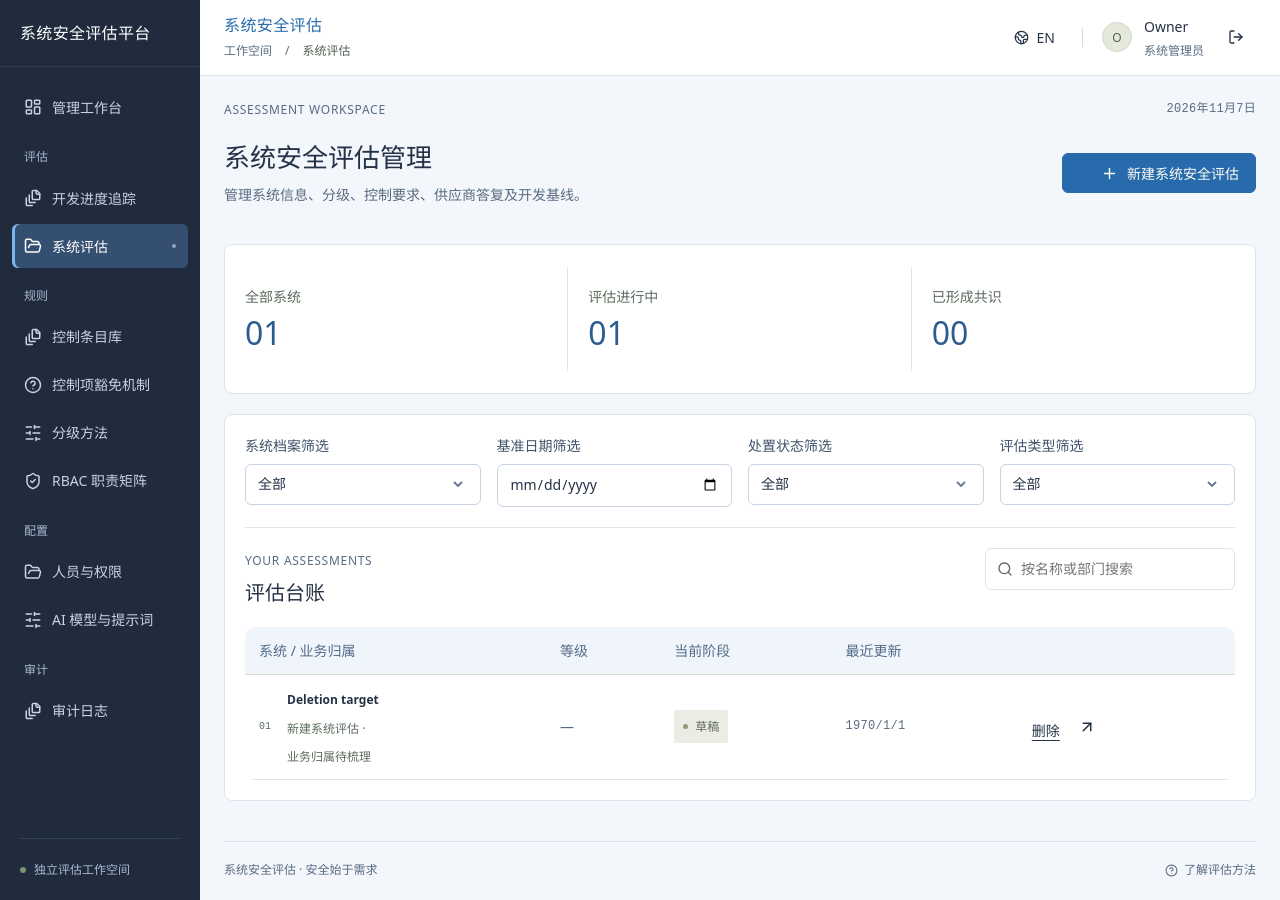
Test: restricts assessment deletion to admin=true and confirms before sending
Expected: the text "Deletion target" is shown, [287,691,379,708]
Click the button with aria-label "删除评估 Deletion target": click(1046, 730) [1025,714,1067,746]
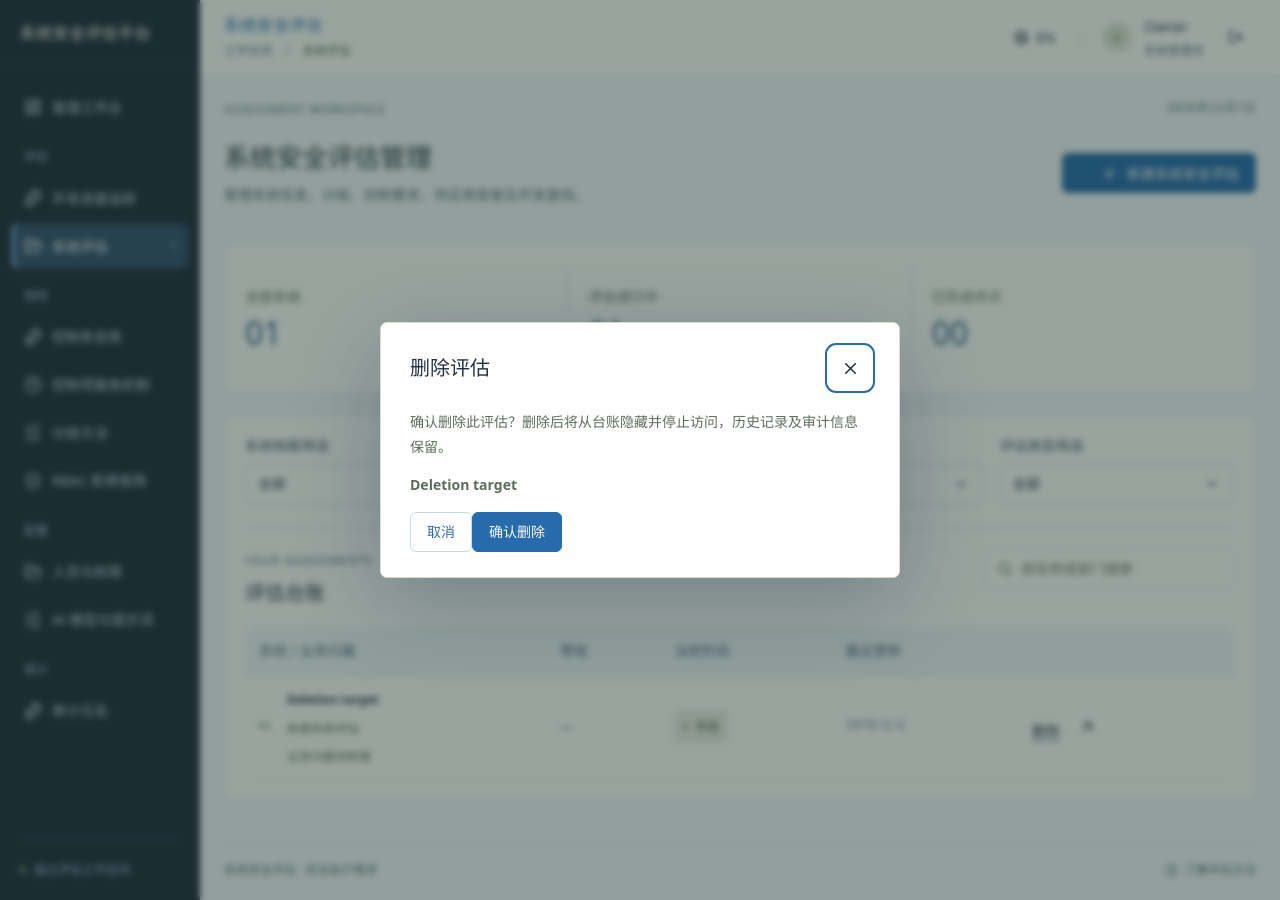
Click the button "取消": click(441, 532) [410,512,472,552]
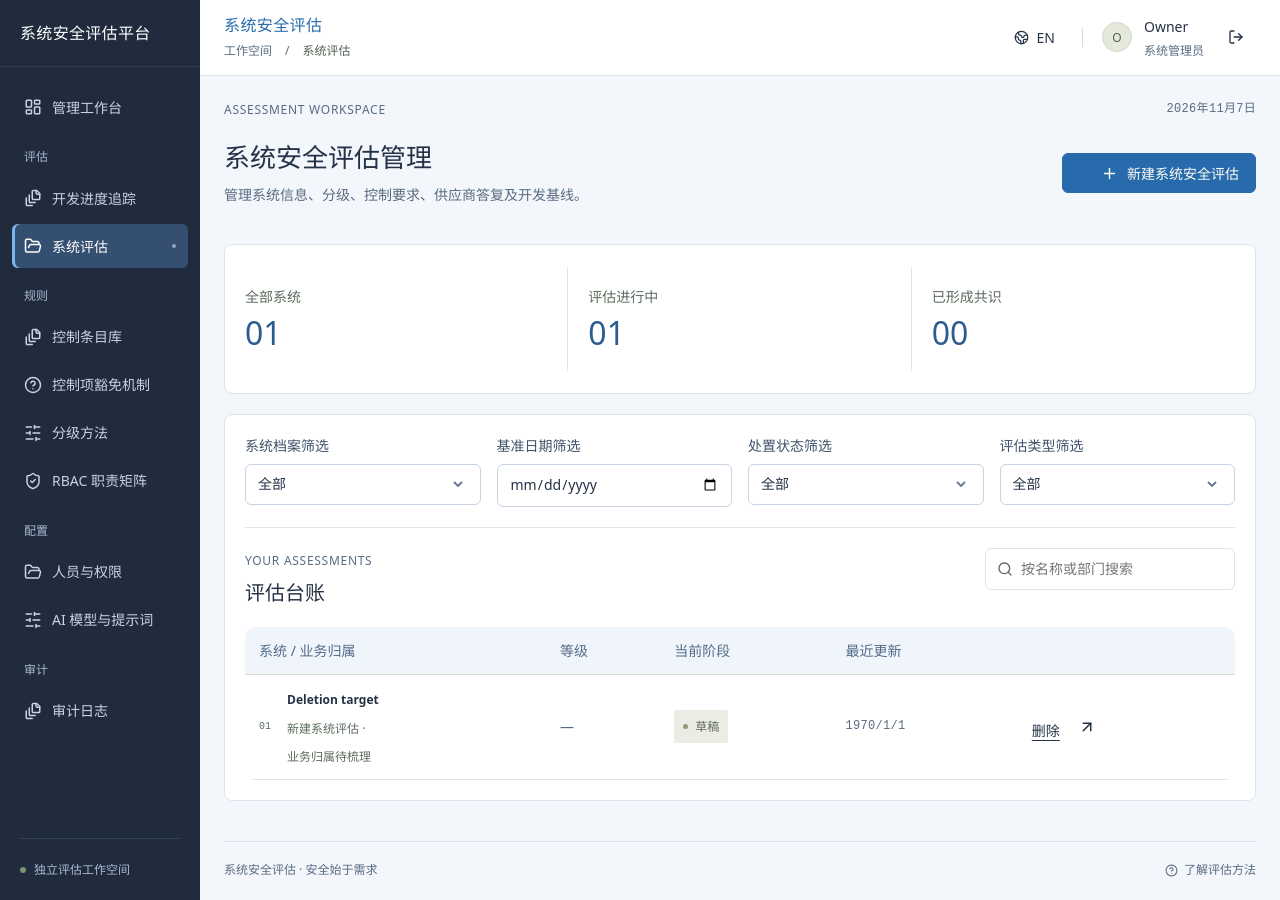
Click the button with aria-label "删除评估 Deletion target": click(1046, 730) [1025,714,1067,746]
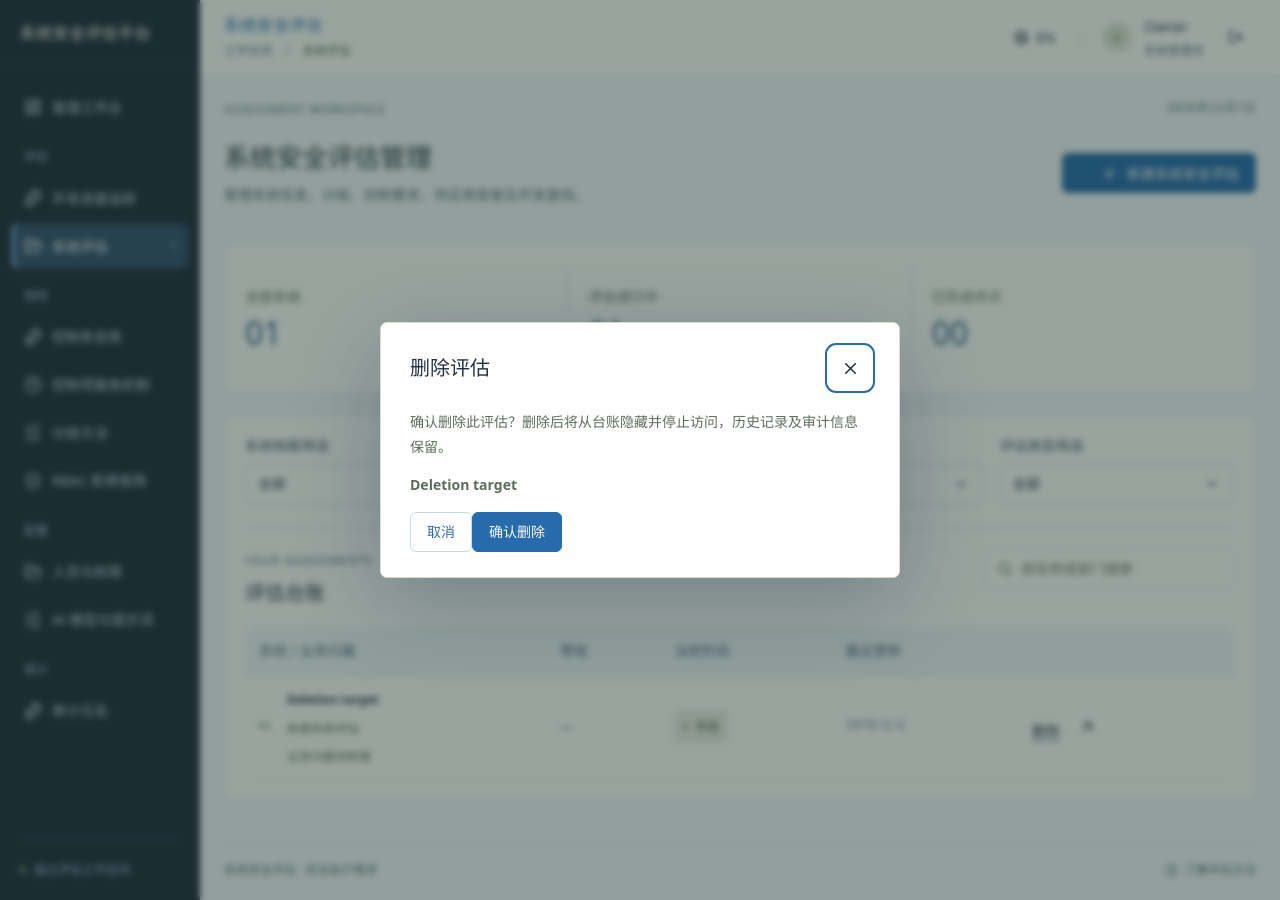
Click the button "确认删除": click(517, 532) [472,512,562,552]
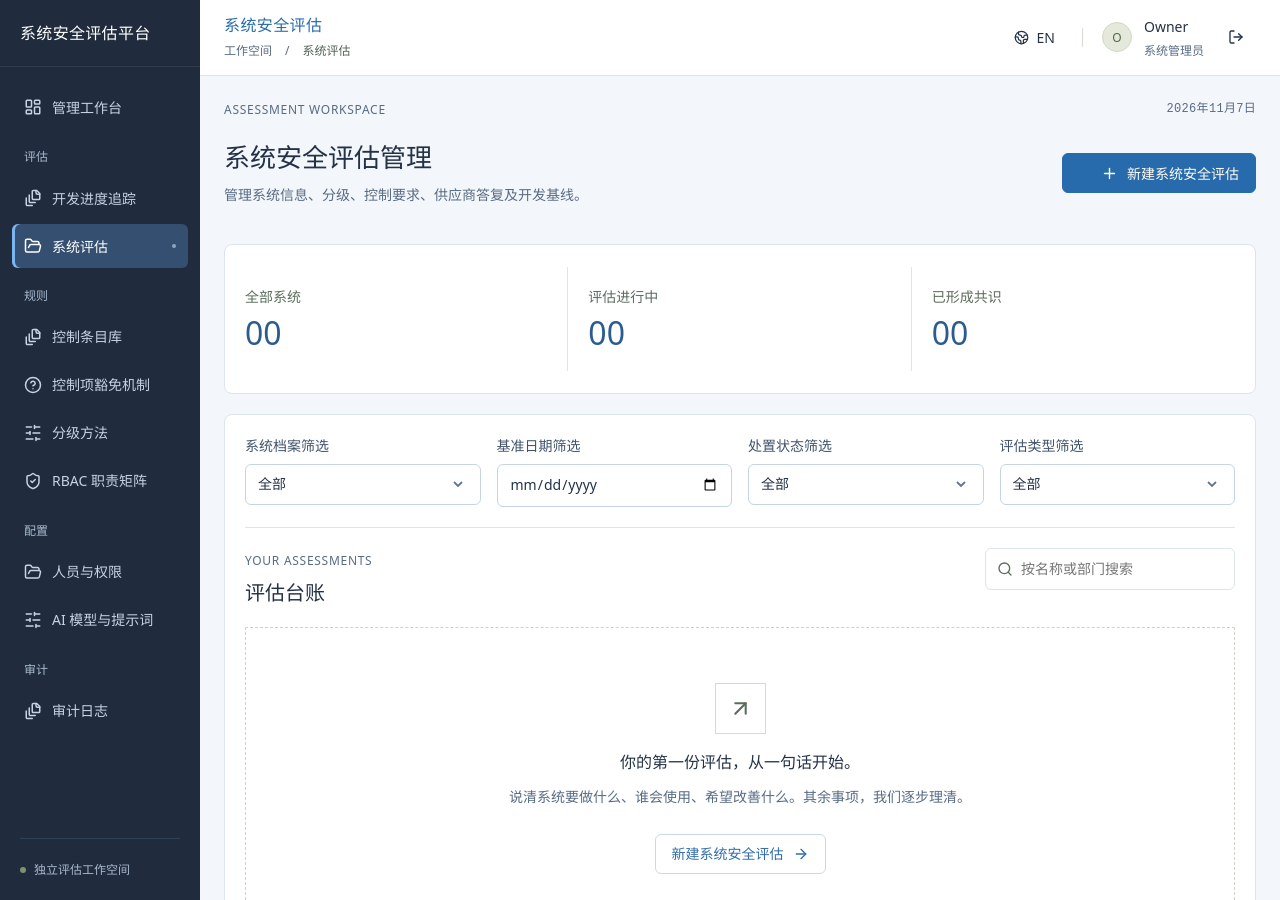
Now the link "Deletion target" is gone
